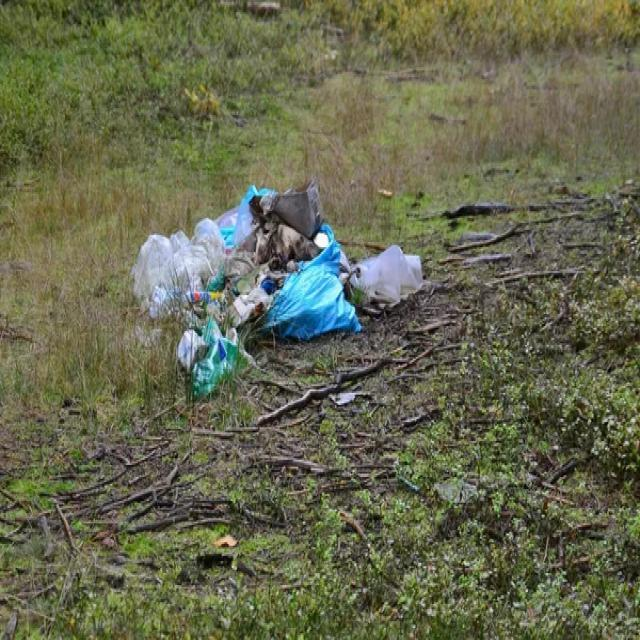high trash: (132, 181, 424, 398)
